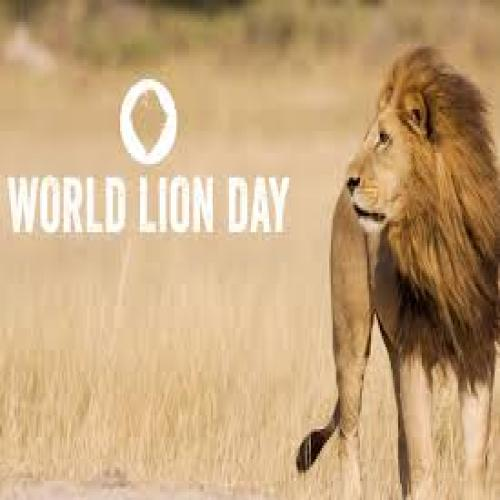lion-endangered: (296, 53, 494, 490)
